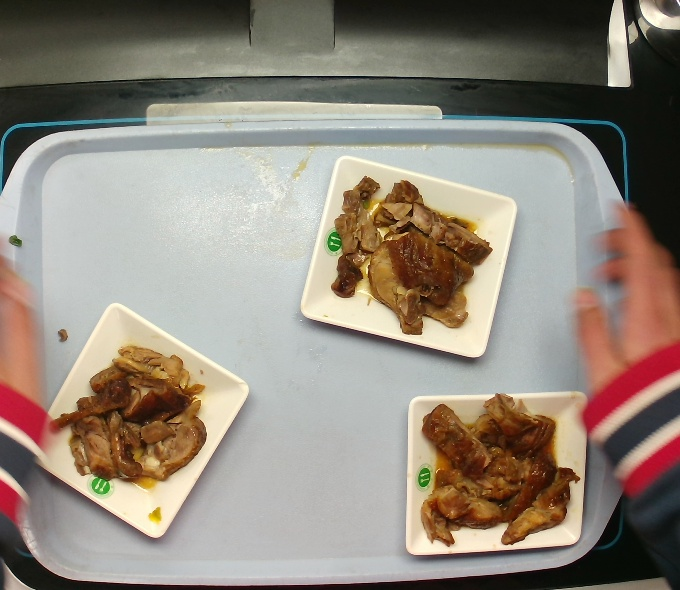wcq-YaRou: (52, 342, 212, 498), (417, 389, 573, 549), (337, 177, 484, 328)
